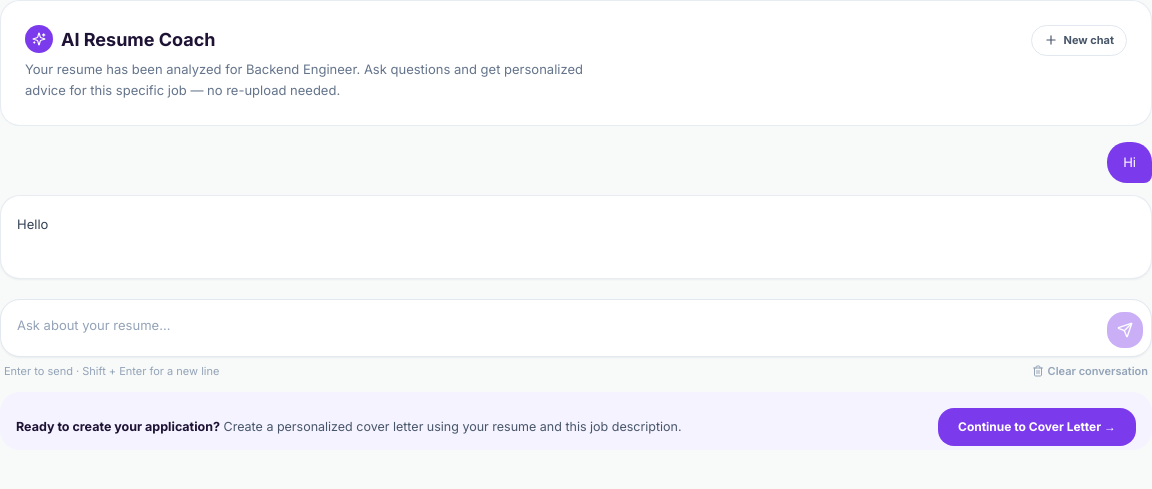
Test: AICoach › clears the conversation with New chat
The image size is (1152, 489).
Expected: the text "Hello" is shown, [17,216,48,232]
Click the button "New chat" at (1079, 40), box [1030,25,1127,56]
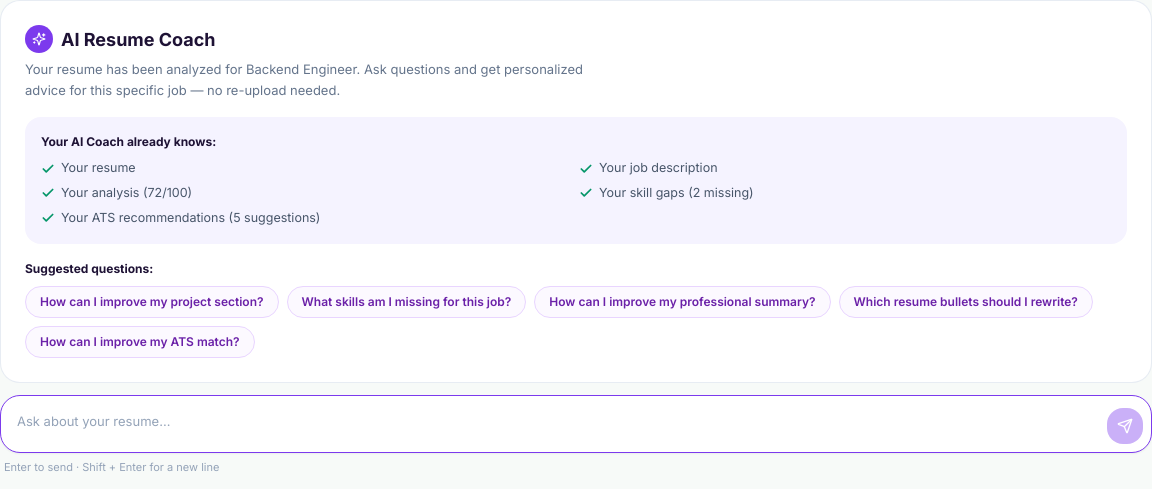
Result: the text "Hello" is gone
Result: the text "Your AI Coach already knows:" is shown at [41,134,216,149]
